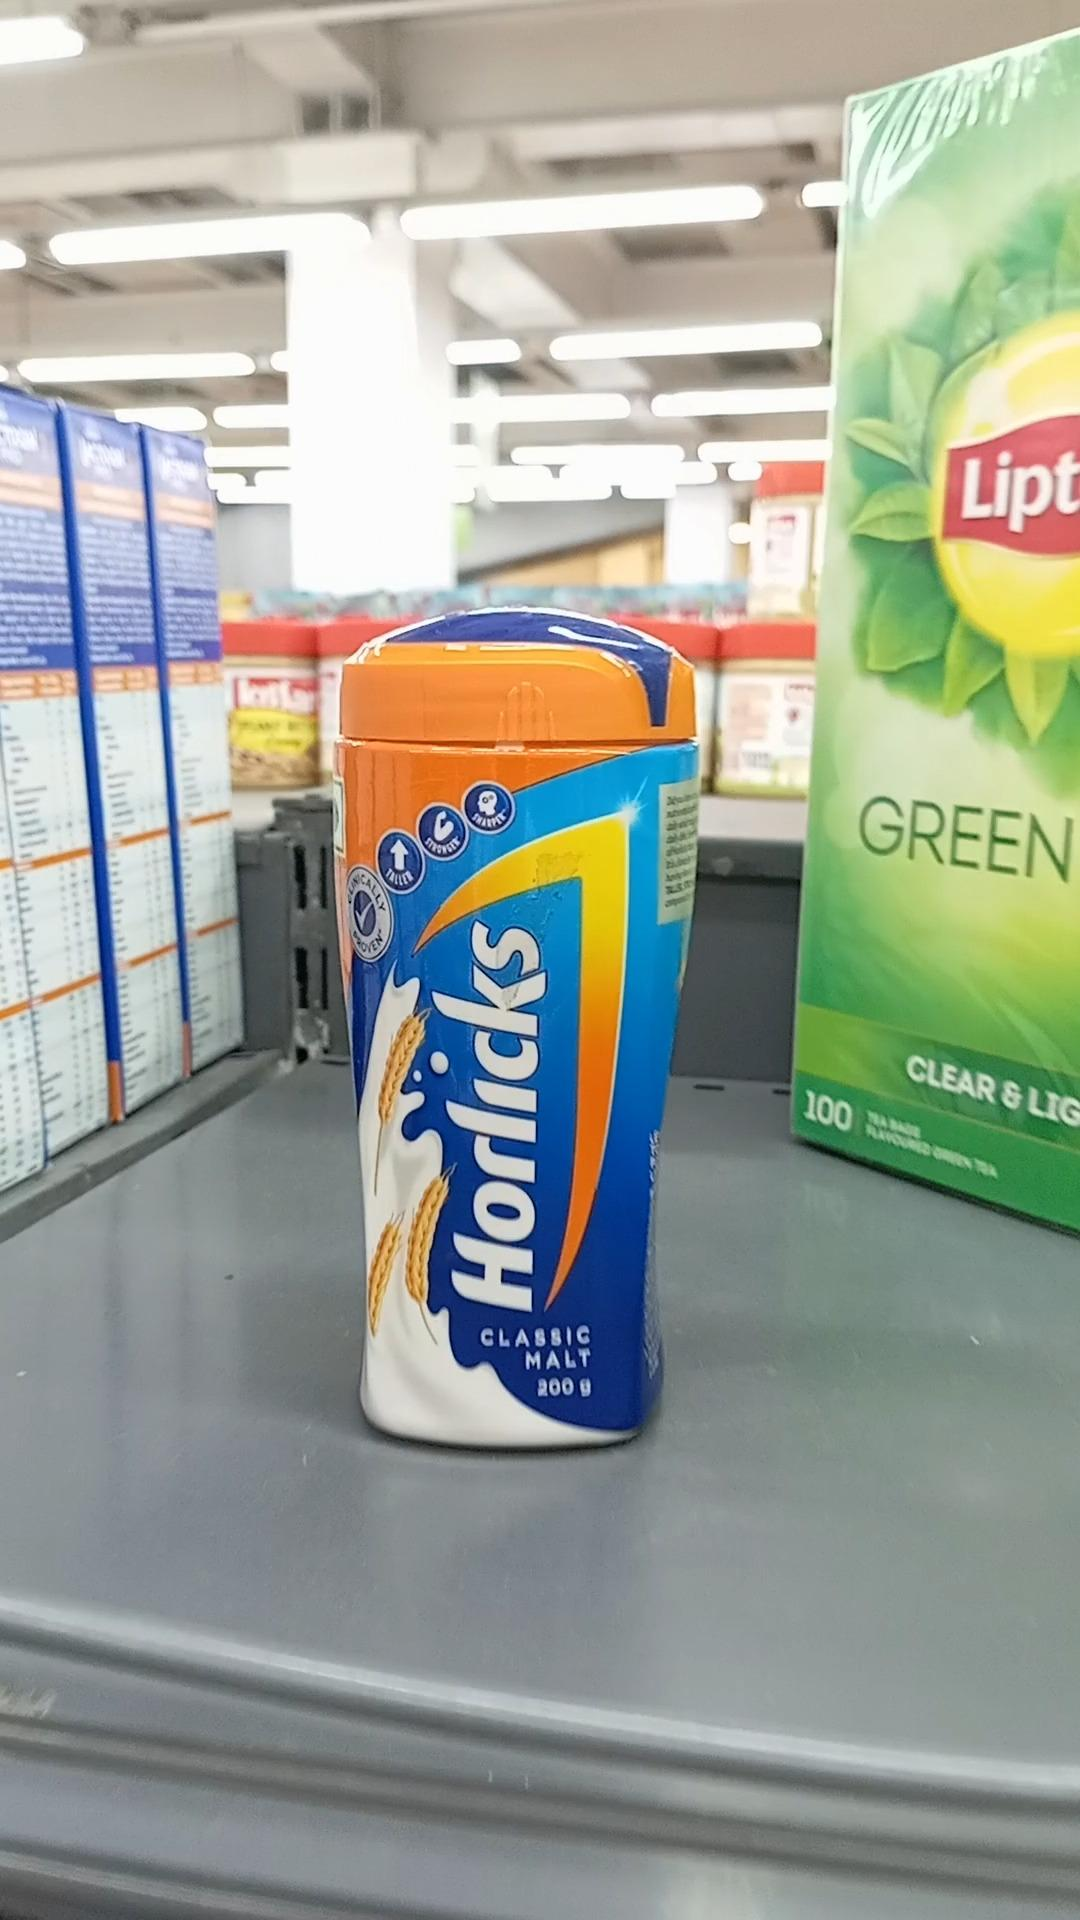HORLICK_CLASSIC_MALT_200_G_JAR: (328, 607, 658, 1451)
